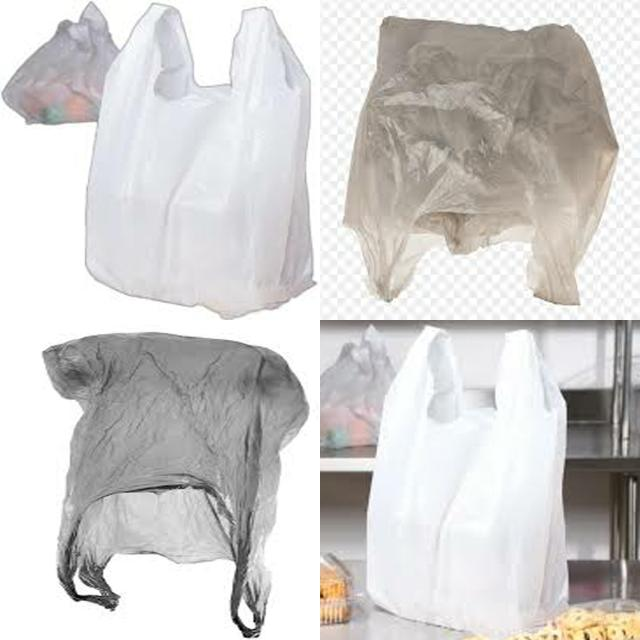Single-layer Plastic: (44, 332, 309, 638), (345, 18, 618, 304), (86, 4, 312, 318), (368, 328, 568, 631)
